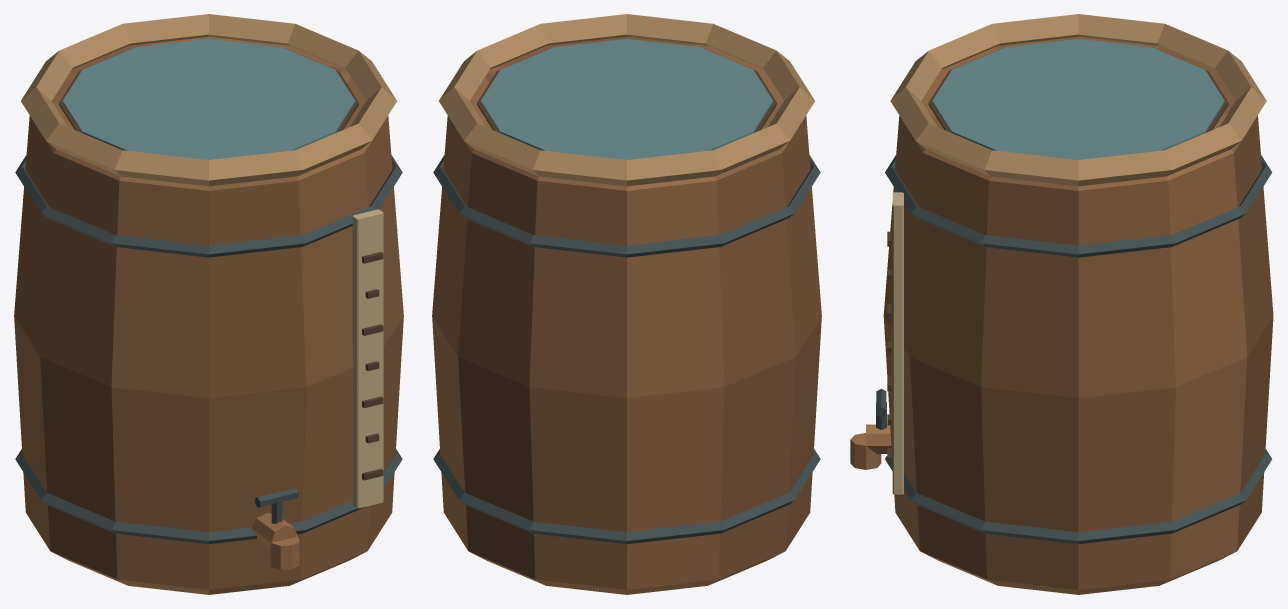
File: water_tank.glb
3 renders of one model, left to right at view 1: azimuth 30°, elevation 25°; view 2: azimuth 150°, elevation 25°; view 3: azimuth 270°, elevation 25°, orthographic.
Visible parts, largest first — view 1: geometry; view 2: geometry; view 3: geometry.
Boxes of the visible parts, x1,y1,x2,y2 form: geometry: (14,14,403,594); geometry: (432,14,821,594); geometry: (850,14,1273,594).
Size of the model in its own units: 0.88 by 1.09 by 0.955.
